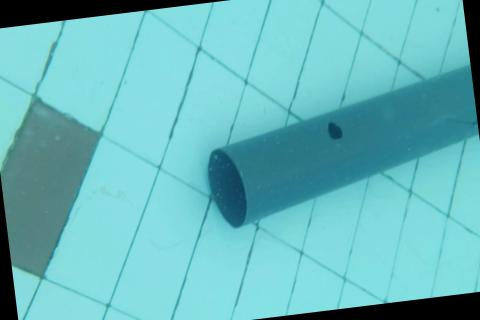kebocoran: (324, 118, 345, 142)
keretakan: (446, 113, 477, 131)
